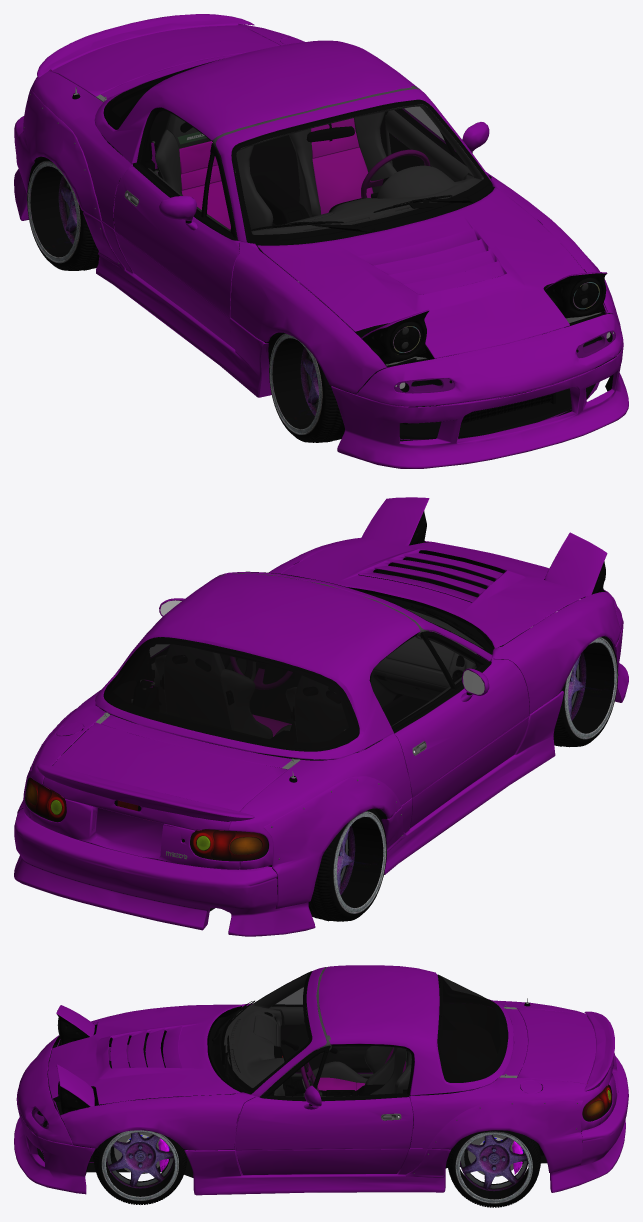
The picture shows the model from 3 angles, top to bottom: view 1: azimuth 30°, elevation 25°; view 2: azimuth 150°, elevation 25°; view 3: azimuth 270°, elevation 25°; orthographic projection. The views are drawn at different scales.
Parts seen in each view (by area): view 1: RLA_miata_headlight_R_popup.001_RRpbrPaintPrimary_0, RLA_miata_windshield_RLA_miata_glass_0, RLA_miata_headlight_R_popup_RRpbrMatteBlack_0, RLA_miata_window_rf_RLA_miata_glass_0, RLA_miata_dash_RLA_miata_interior_leather_0, WHEEL_RR_RIM, WHEEL_RF_RIM, RLA_miata_headlight_R_popup_RLA_miata_interior_leather_0, RLA_miata_seat_driver_a_RLA_miata_seats_0, RLA_miata_seat_driver_a_RLA_miata_interior_leather_0, RLA_miata_seat_passenger_a_RLA_miata_interior_leather_0, RLA_miata_headlight_R_popup_RLA_miata_chassis_0 (+11 smaller); view 2: RLA_miata_headlight_R_popup.001_RRpbrPaintPrimary_0, RLA_miata_headlight_R_popup_RLA_miata_glass_0, RLA_miata_headlight_R_popup_RRpbrMatteBlack_0, RLA_miata_seat_driver_a_RLA_miata_interior_leather_0, RLA_miata_window_rf_RLA_miata_glass_0, WHEEL_RR_RIM, WHEEL_RF_RIM, RLA_miata_dash_RLA_miata_interior_leather_0, RLA_miata_headlight_R_popup_RLA_miata_carpet_0, RLA_miata_seat_passenger_a_RLA_miata_interior_leather_0, RLA_miata_taillight_L.001_RLA_miata_brakelight_0, RLA_miata_headlight_R_popup_RRpbrGlossBlack_0 (+7 smaller); view 3: RLA_miata_headlight_R_popup.001_RRpbrPaintPrimary_0, RLA_miata_headlight_R_popup_RRpbrMatteBlack_0, RLA_miata_windshield_RLA_miata_glass_0, RLA_miata_headlight_R_popup_RLA_miata_glass_0, RLA_miata_window_lf_RLA_miata_glass_0, WHEEL_LR_RIM, WHEEL_LF_RIM, RLA_miata_dash_RLA_miata_interior_leather_0, RLA_miata_headlight_R_popup_RLA_miata_carpet_0, RLA_miata_headlight_R_popup_RLA_miata_interior_trim_0, RLA_miata_seat_passenger_a_RLA_miata_interior_leather_0, RLA_miata_headlight_R_popup_RRpbrGlossBlack_0 (+10 smaller).
Part boxes in pixels (x1,y1,x2,y2): RLA_miata_headlight_R_popup.001_RRpbrPaintPrimary_0: (14, 14, 628, 468); RLA_miata_windshield_RLA_miata_glass_0: (236, 104, 483, 234); RLA_miata_headlight_R_popup_RRpbrMatteBlack_0: (29, 70, 621, 407); RLA_miata_window_rf_RLA_miata_glass_0: (140, 108, 232, 233); RLA_miata_dash_RLA_miata_interior_leather_0: (252, 165, 481, 234); WHEEL_RR_RIM: (27, 160, 80, 263); WHEEL_RF_RIM: (269, 333, 322, 434); RLA_miata_headlight_R_popup_RLA_miata_interior_leather_0: (148, 86, 483, 234); RLA_miata_seat_driver_a_RLA_miata_seats_0: (311, 118, 373, 214); RLA_miata_seat_driver_a_RLA_miata_interior_leather_0: (289, 112, 396, 217); RLA_miata_seat_passenger_a_RLA_miata_interior_leather_0: (155, 113, 273, 230); RLA_miata_headlight_R_popup_RLA_miata_chassis_0: (255, 186, 610, 439); RLA_miata_headlight_R_popup.001_RRpbrPaintPrimary_0: (14, 497, 628, 936); RLA_miata_headlight_R_popup_RLA_miata_glass_0: (105, 639, 357, 749); RLA_miata_headlight_R_popup_RRpbrMatteBlack_0: (19, 511, 622, 894); RLA_miata_seat_driver_a_RLA_miata_interior_leather_0: (155, 644, 291, 738); RLA_miata_window_rf_RLA_miata_glass_0: (369, 633, 480, 727); WHEEL_RR_RIM: (333, 811, 386, 913); WHEEL_RF_RIM: (564, 637, 617, 739); RLA_miata_dash_RLA_miata_interior_leather_0: (372, 608, 482, 687); RLA_miata_headlight_R_popup_RLA_miata_carpet_0: (113, 663, 428, 767); RLA_miata_seat_passenger_a_RLA_miata_interior_leather_0: (286, 676, 348, 747); RLA_miata_taillight_L.001_RLA_miata_brakelight_0: (190, 829, 268, 860); RLA_miata_headlight_R_popup_RRpbrGlossBlack_0: (106, 639, 396, 911); RLA_miata_headlight_R_popup.001_RRpbrPaintPrimary_0: (14, 965, 628, 1195); RLA_miata_headlight_R_popup_RRpbrMatteBlack_0: (20, 971, 612, 1150); RLA_miata_windshield_RLA_miata_glass_0: (224, 974, 308, 1087); RLA_miata_headlight_R_popup_RLA_miata_glass_0: (57, 975, 506, 1101); RLA_miata_window_lf_RLA_miata_glass_0: (270, 1044, 412, 1097); WHEEL_LR_RIM: (455, 1130, 532, 1203); WHEEL_LF_RIM: (101, 1130, 178, 1200); RLA_miata_dash_RLA_miata_interior_leather_0: (224, 1005, 284, 1095); RLA_miata_headlight_R_popup_RLA_miata_carpet_0: (291, 1003, 500, 1148); RLA_miata_headlight_R_popup_RLA_miata_interior_trim_0: (280, 1024, 399, 1116); RLA_miata_seat_passenger_a_RLA_miata_interior_leather_0: (302, 1046, 397, 1084); RLA_miata_headlight_R_popup_RRpbrGlossBlack_0: (37, 977, 547, 1177).
Size of what is drawn, in the model's own units: 1.81 by 1.15 by 3.94.
40 materials, 8 textured.
